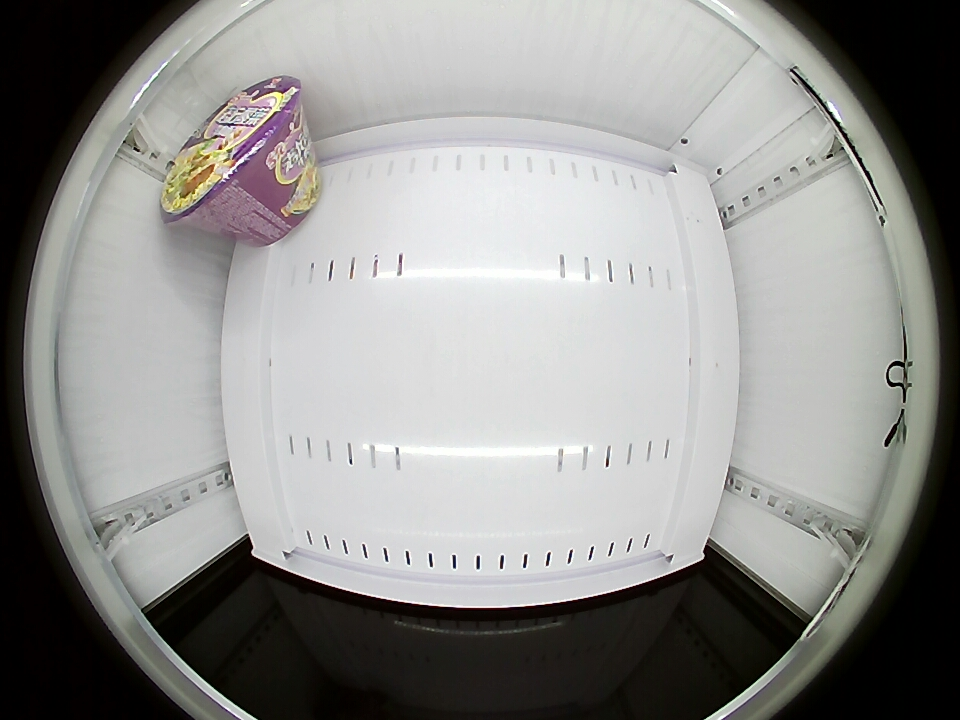laotansuancai: (162, 76, 306, 226)
